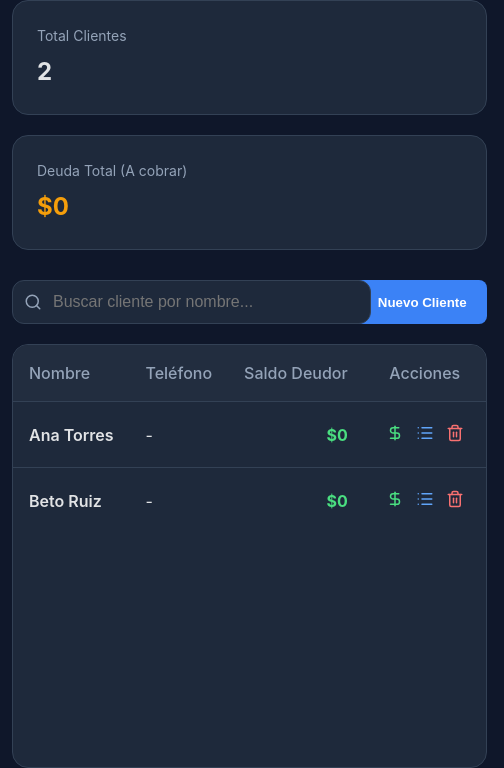
Scenario: Clientes component › filters clients by search query
The width and height of the screenshot is (504, 768).
Expected: the text "Ana Torres" is shown, [13,402,130,468]
Type "Ana" into the field with placeholder "Buscar cliente por nombre..." at (191, 302), box [12,280,371,324]
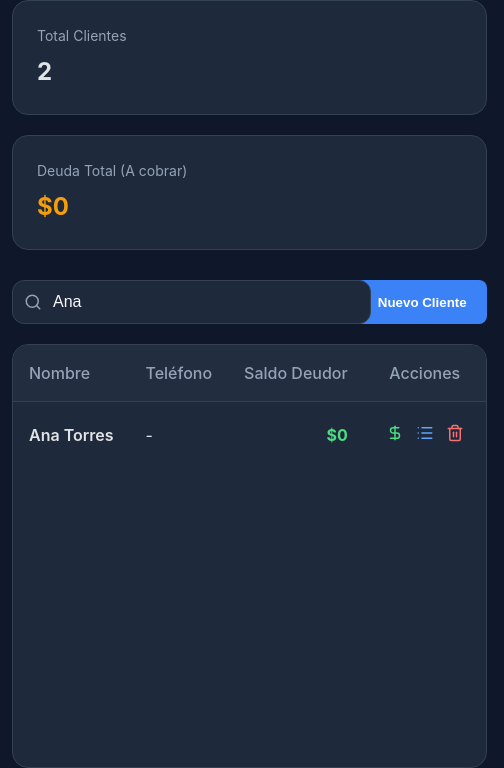
Expected: the text "Ana Torres" is shown, [13,402,130,467]
Now the text "Beto Ruiz" is gone
